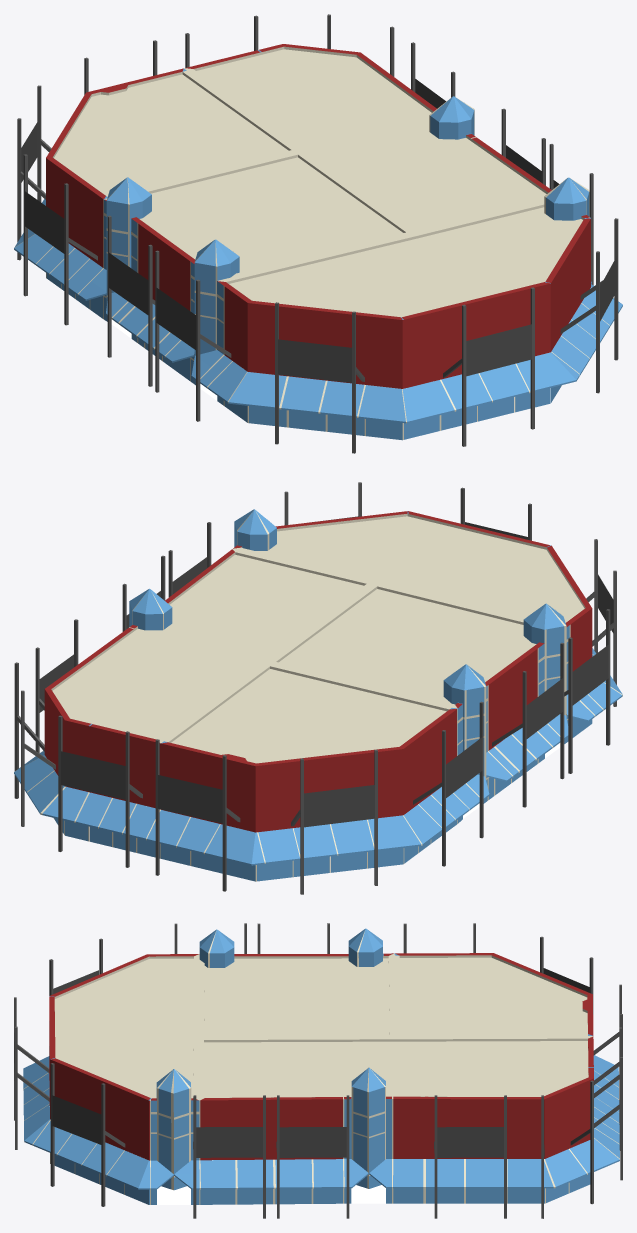
The model's file is carpet_WBv3.glb.
3 views of the same model, one above another, from view 1: azimuth 30°, elevation 25°; view 2: azimuth 150°, elevation 25°; view 3: azimuth 270°, elevation 25° (orthographic). The views are drawn at different scales.
Visible parts, largest first — view 1: 279815706; view 2: 279815706; view 3: 279815706.
Boxes of the visible parts, x1,y1,x2,y2 form: 279815706: (14, 14, 622, 453); 279815706: (14, 482, 622, 894); 279815706: (14, 923, 622, 1218).
Size of the model in its own units: 185 by 66.71 by 275.
